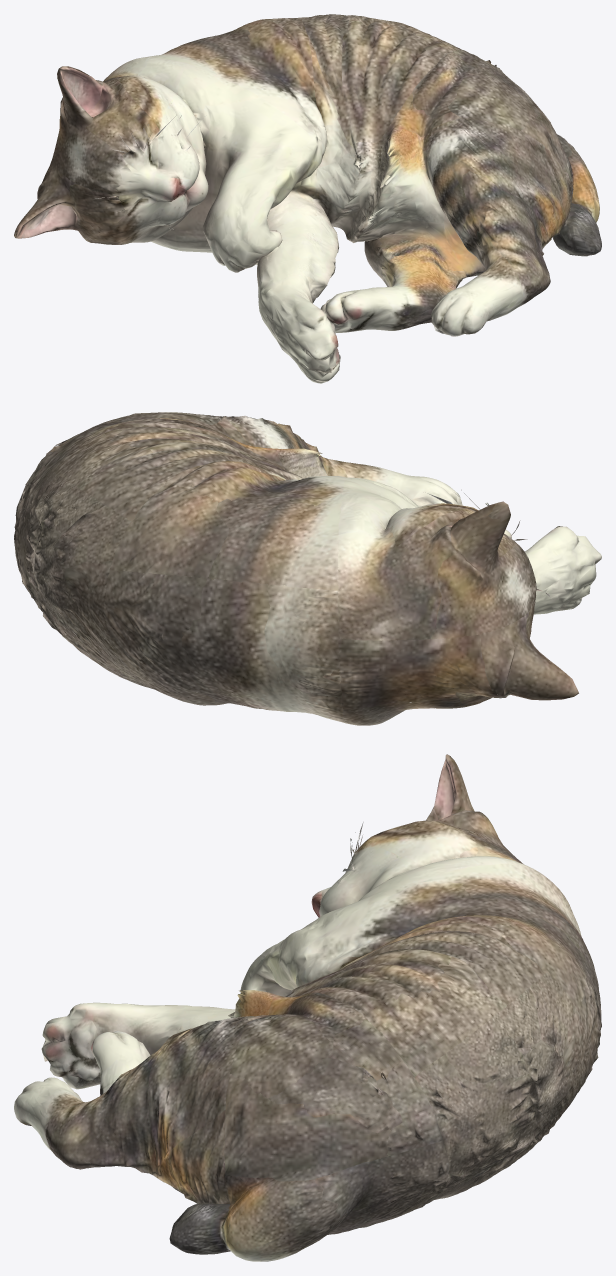
The model's file is cat-chess-mascot.glb.
3 views of the same model, one above another, from view 1: azimuth 30°, elevation 25°; view 2: azimuth 150°, elevation 25°; view 3: azimuth 270°, elevation 25° (orthographic). The views are drawn at different scales.
Visible parts, largest first — view 1: tripo_node_1164ebba-2110-417a-a74e-21bab4bbe84e; view 2: tripo_node_1164ebba-2110-417a-a74e-21bab4bbe84e; view 3: tripo_node_1164ebba-2110-417a-a74e-21bab4bbe84e.
Part boxes in pixels (x1,y1,x2,y2): tripo_node_1164ebba-2110-417a-a74e-21bab4bbe84e: [14, 14, 601, 383]; tripo_node_1164ebba-2110-417a-a74e-21bab4bbe84e: [14, 412, 601, 725]; tripo_node_1164ebba-2110-417a-a74e-21bab4bbe84e: [14, 754, 601, 1261].
Bounding box in the file's own units: 32059 × 13659 × 26743.
Materials: 1 (1 with a texture image).
